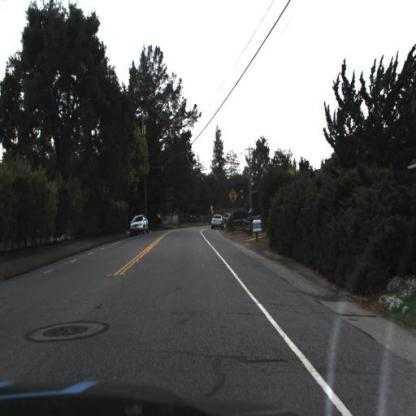car: (131, 212, 149, 233), (212, 213, 224, 231)
